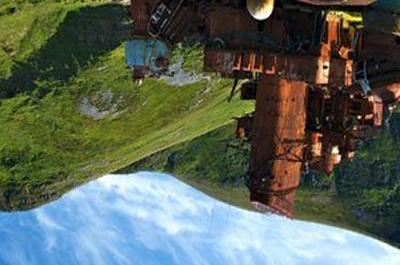rust: (238, 71, 379, 211), (248, 22, 353, 88), (354, 7, 400, 106), (202, 7, 247, 82)
